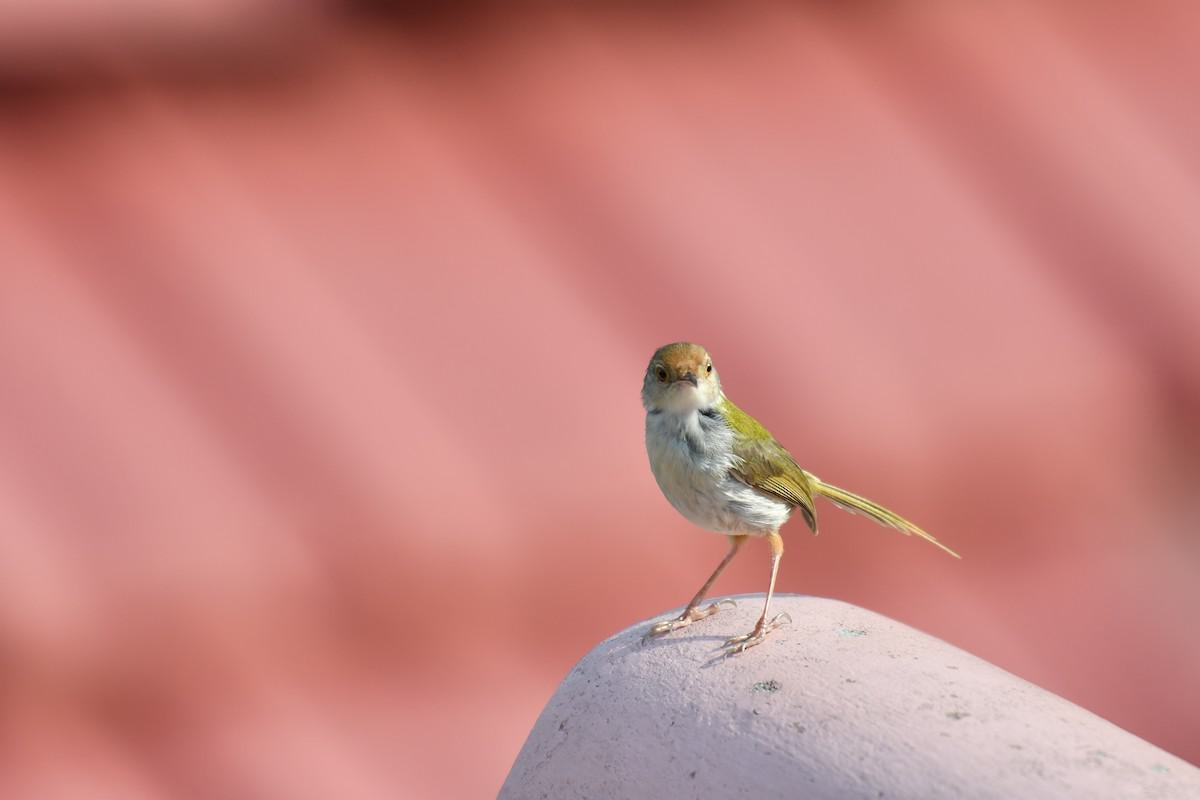tailorbird: (587, 322, 969, 647)
